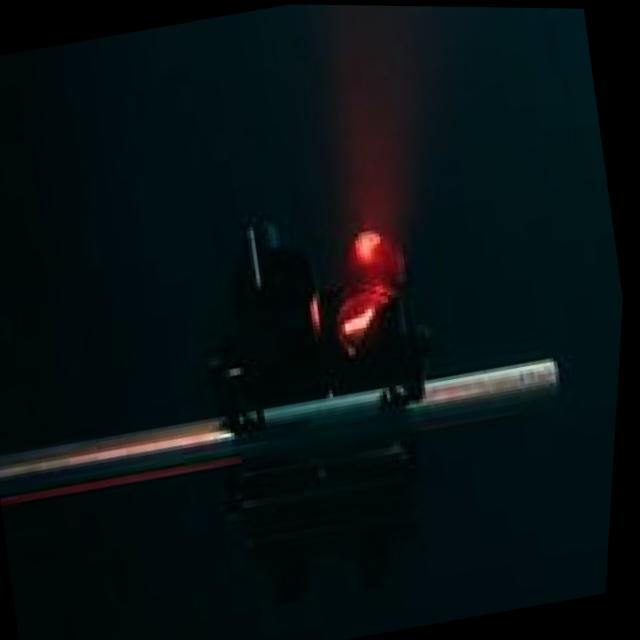red_light: (0, 122, 524, 631)
